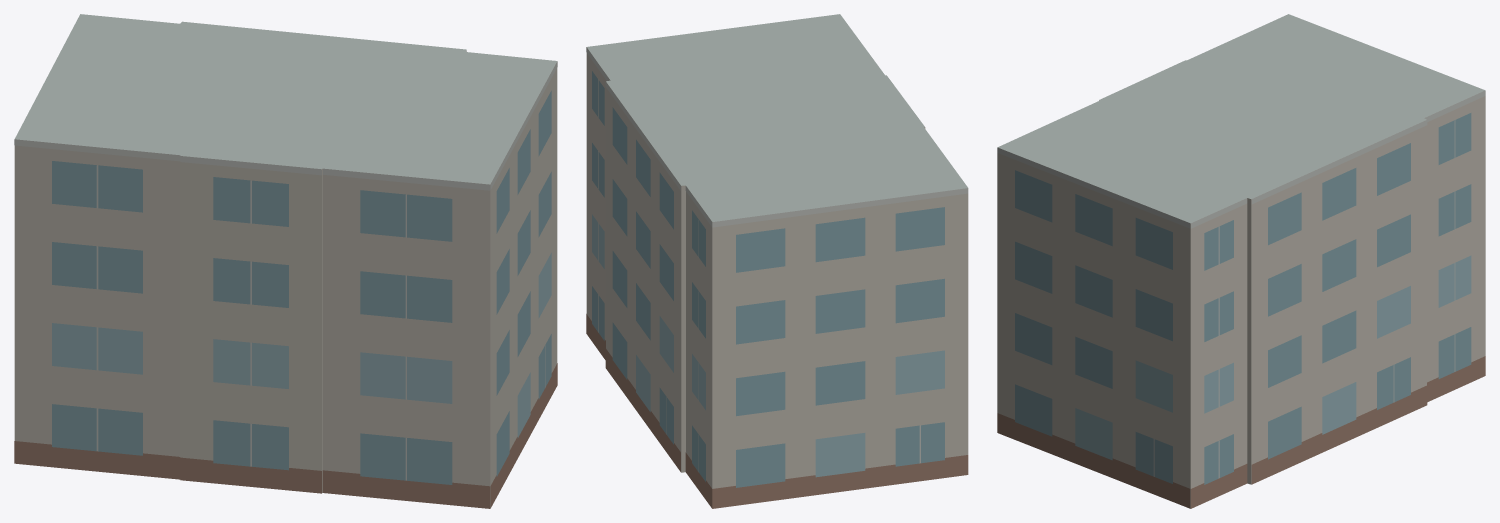
Rendered from survey-upis-32673872.glb.
The picture shows the model from 3 angles, left to right: view 1: azimuth 30°, elevation 25°; view 2: azimuth 150°, elevation 25°; view 3: azimuth 270°, elevation 25°; orthographic projection. The views are drawn at different scales.
Visible parts, largest first — view 1: survey-upis-32673872.tmp; view 2: survey-upis-32673872.tmp; view 3: survey-upis-32673872.tmp.
Boxes of the visible parts, <box> form: survey-upis-32673872.tmp: <box>14,14,557,508</box>; survey-upis-32673872.tmp: <box>586,14,968,508</box>; survey-upis-32673872.tmp: <box>997,14,1485,508</box>.
Bounding box in the file's own units: 20.14 × 12.8 × 19.84.
